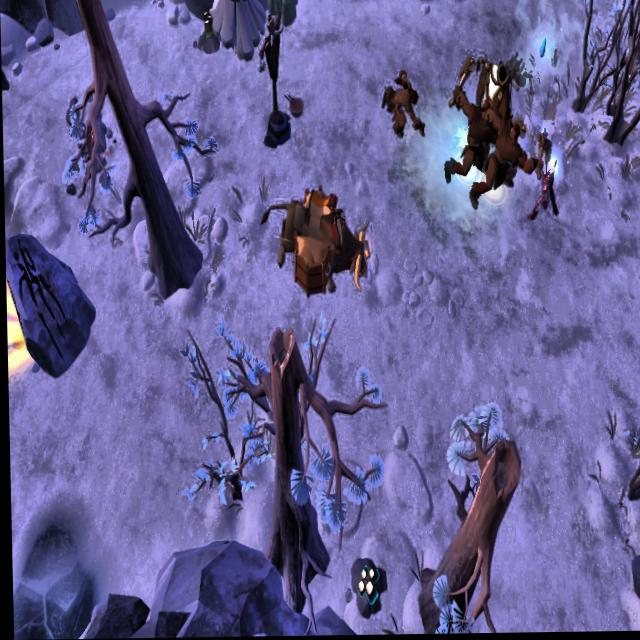enemy_factionKeeper: (470, 54, 517, 180)
ore_t3: (201, 9, 213, 48)
ore_t4: (353, 565, 376, 606)
